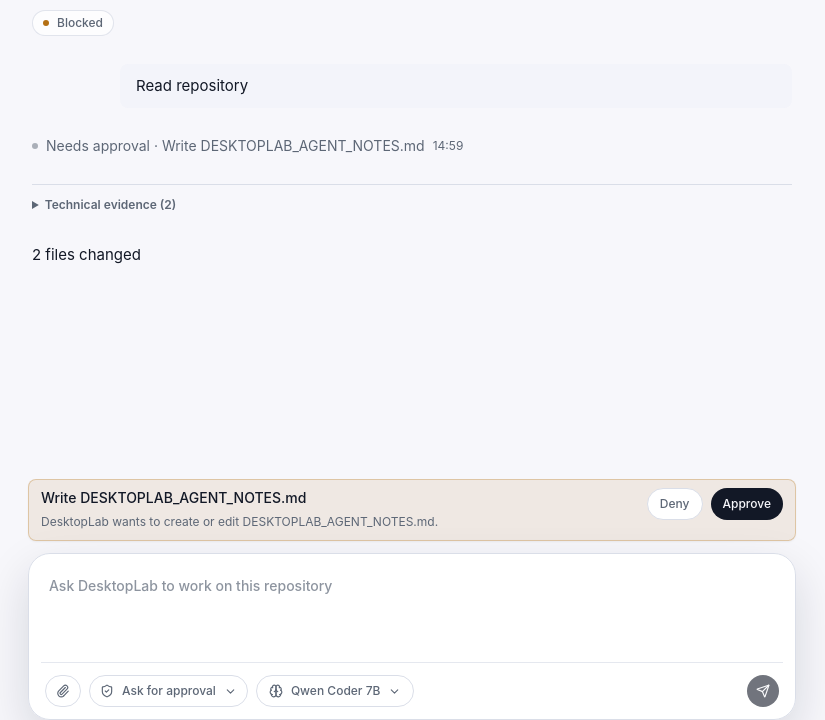
it: failed thread approval remains visible and reports the error
Expected: the element named "Thread approval required" is shown, left=28, top=479, right=796, bottom=541
Click the button "Approve". click: (747, 504)
box: left=710, top=488, right=783, bottom=520
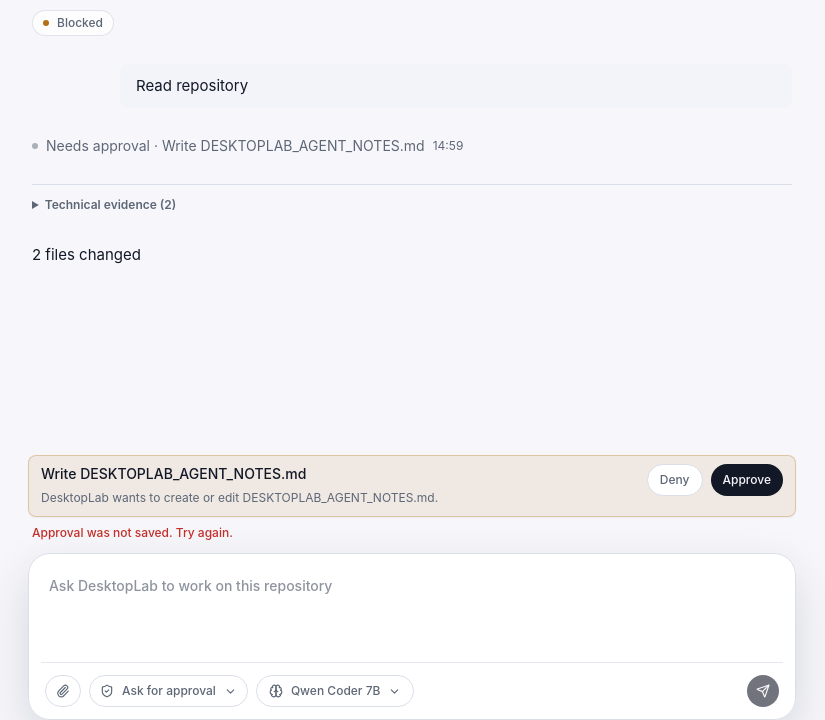
Expected: the element named "Thread approval required" is shown, left=28, top=455, right=796, bottom=541
Now the message reads "Approval was not saved. Try again.", box left=32, top=525, right=233, bottom=540
